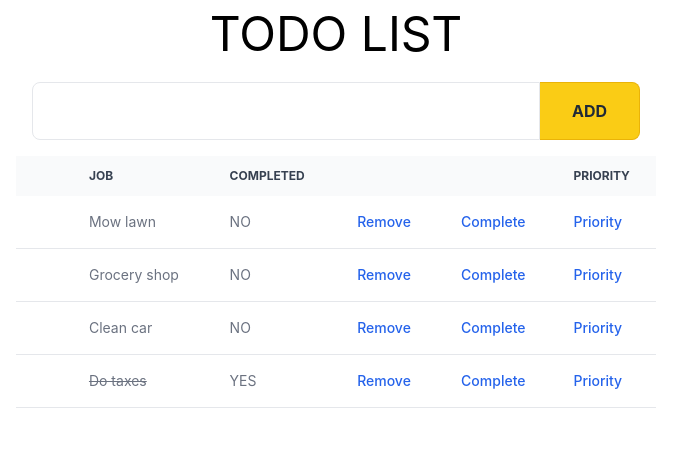
Test: My Add Todo Test › should show a message when all todo items are completed
This screenshot has width=673, height=449.
Click the link with id "completed-0" at (493, 222), box [461,213,525,230]
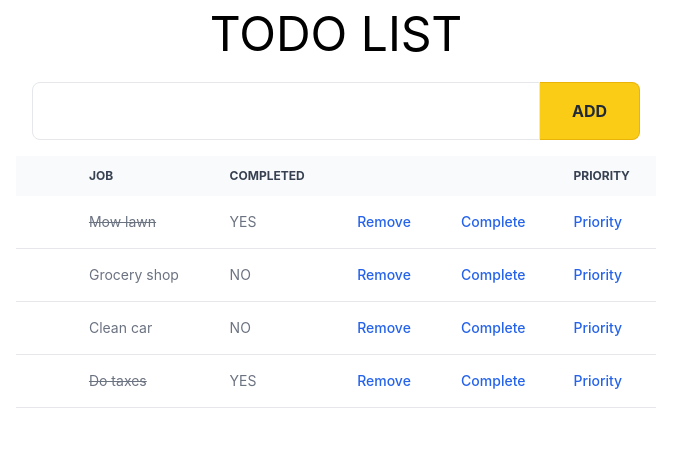
Click the link with id "completed-1" at (493, 275), box [461,266,525,283]
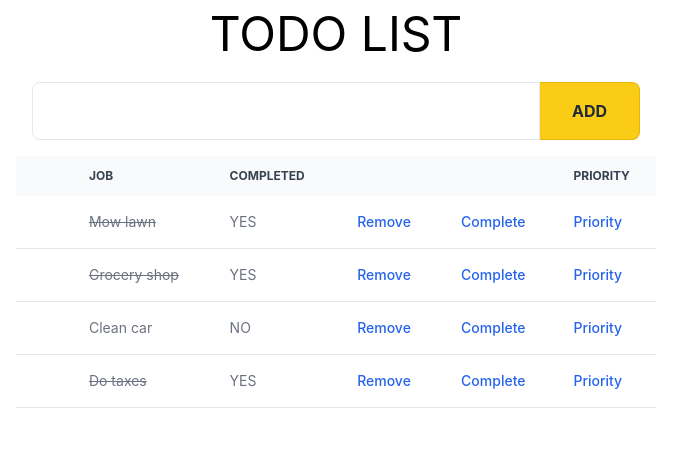
Click the link with id "completed-2" at (493, 328), box [461,319,525,336]
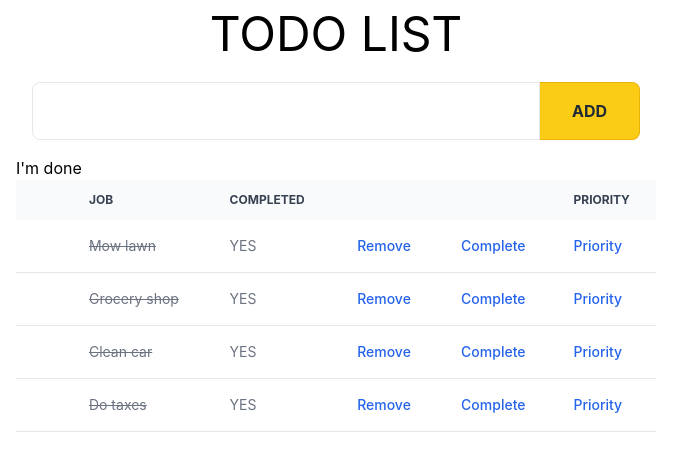
Check: the text "I'm done" is shown, box [16,158,82,178]
